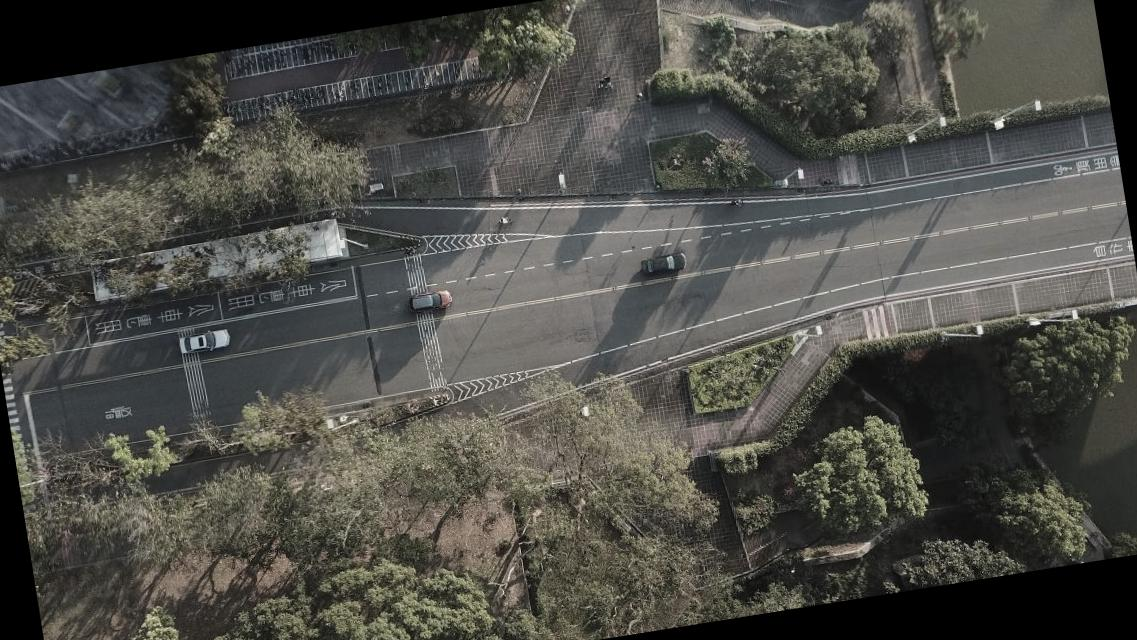vehicle: (176, 326, 232, 356), (639, 250, 688, 276), (406, 289, 454, 314)
